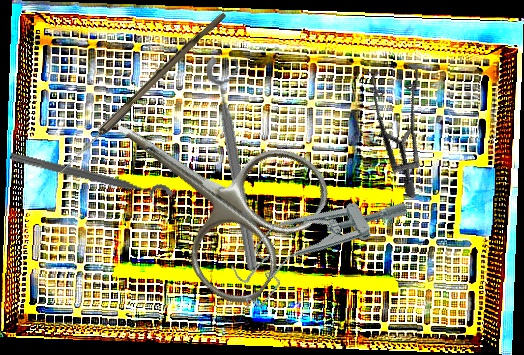Fixation Ring: (204, 51, 276, 273), (6, 147, 175, 214)
Iris Scissors: (71, 58, 342, 317)
Speculum: (218, 165, 416, 315), (327, 46, 466, 200)
Surgical Spoon: (55, 8, 227, 179)
